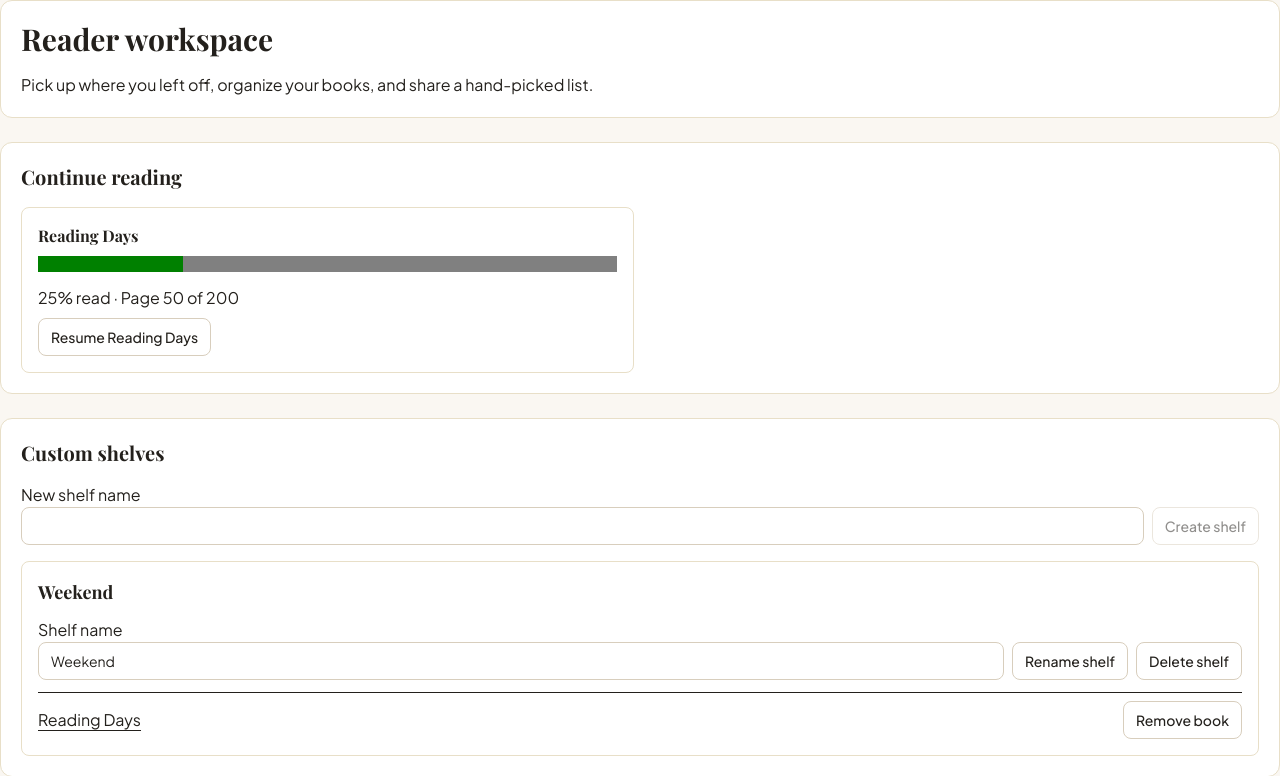
it: reader workspace › creates, renames and deletes shelves and removes a book from a shelf
This screenshot has width=1280, height=776.
In the field labelled "New shelf name": point(582, 526) [21,507,1144,545], type "To discuss"
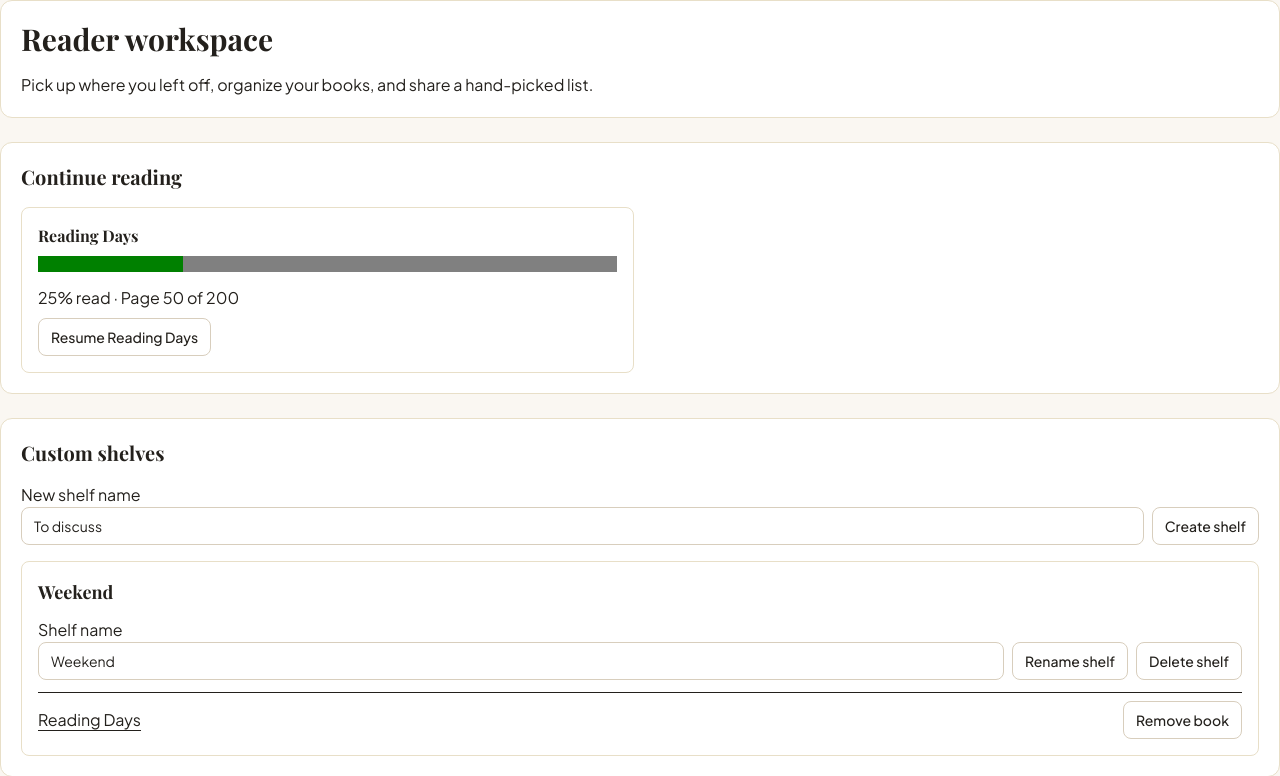
Click the button "Create shelf": point(1205, 526) [1152,507,1259,545]
(page scrolled)
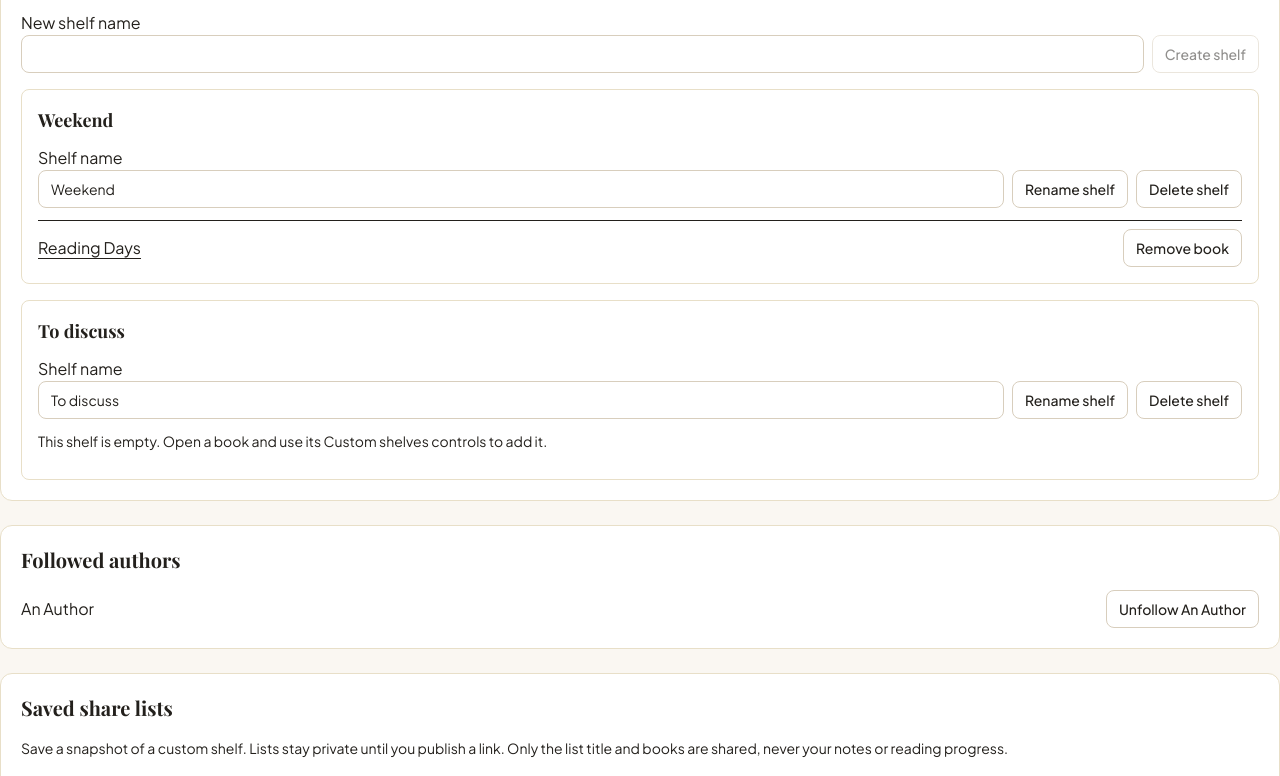
Expected: the heading "To discuss" is shown, [38,319,125,343]
Replace the text in the field named "Rename To discuss" with "Book club": point(521, 400) [38,381,1004,419]
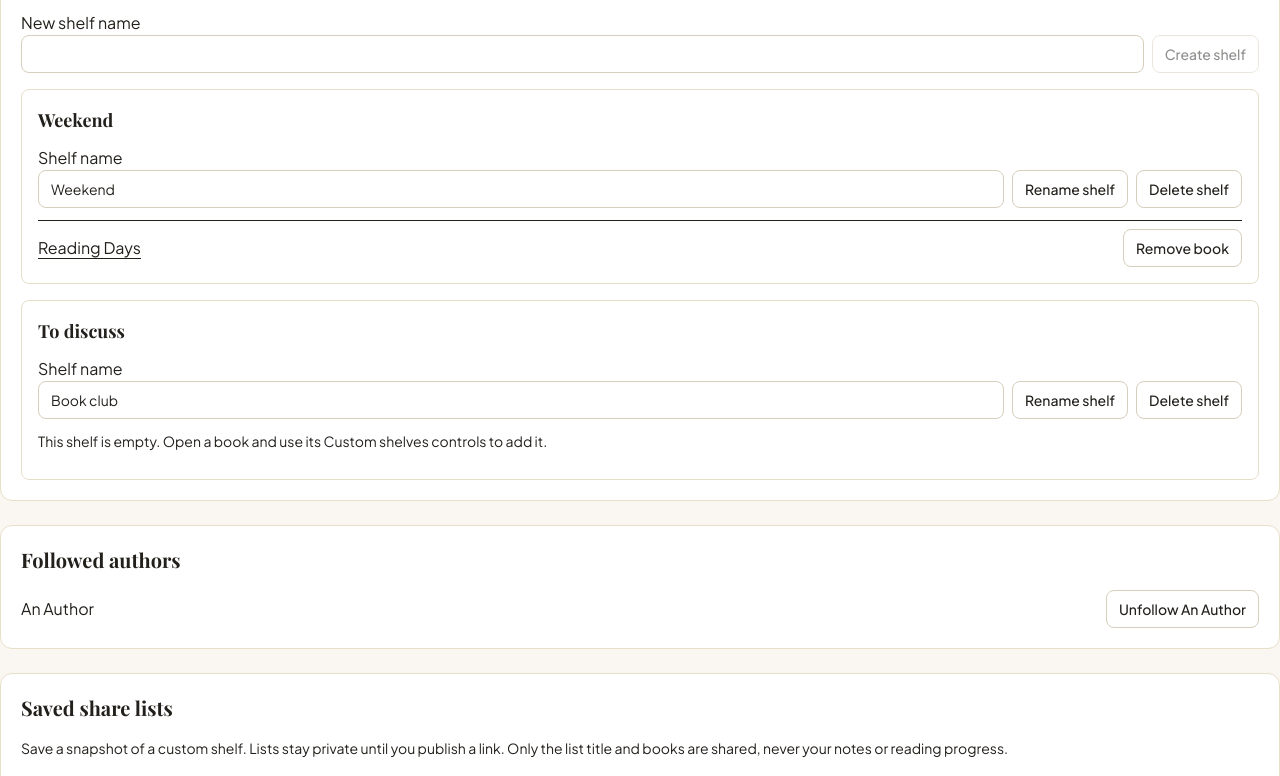
Click the 2nd button "Rename shelf": point(1070, 400) [1012,381,1128,419]
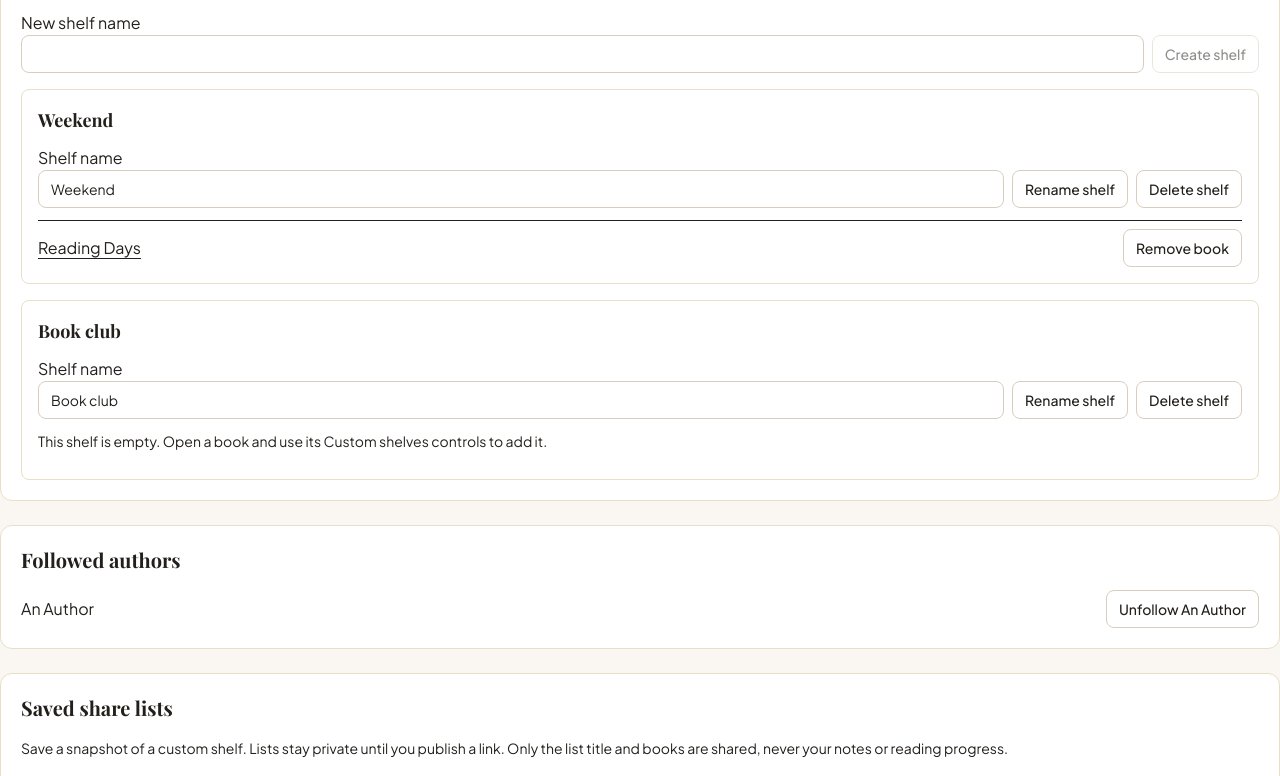
Click the 2nd button "Delete shelf": point(1189, 400) [1136,381,1242,419]
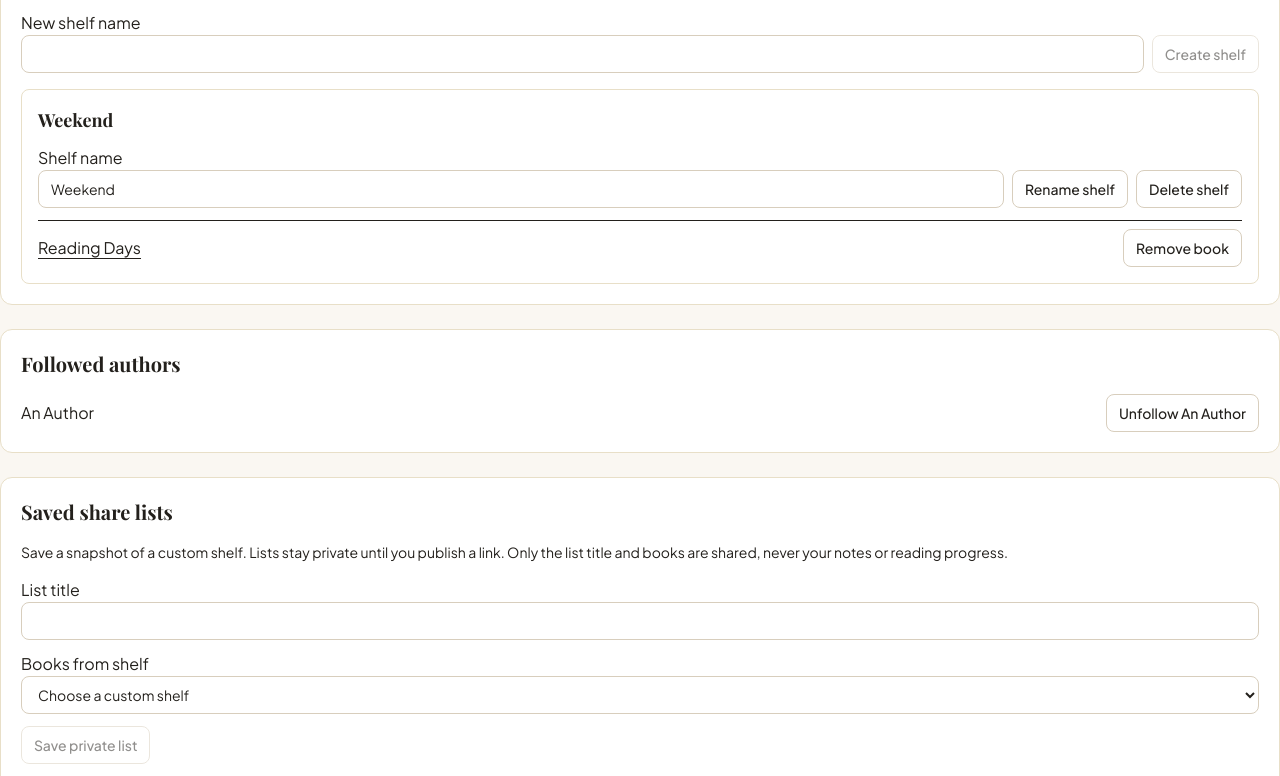
Expected: the heading "Book club" is gone
Click the button with aria-label "Remove Reading Days from Weekend": point(1183, 248) [1123,229,1242,267]
(page scrolled)
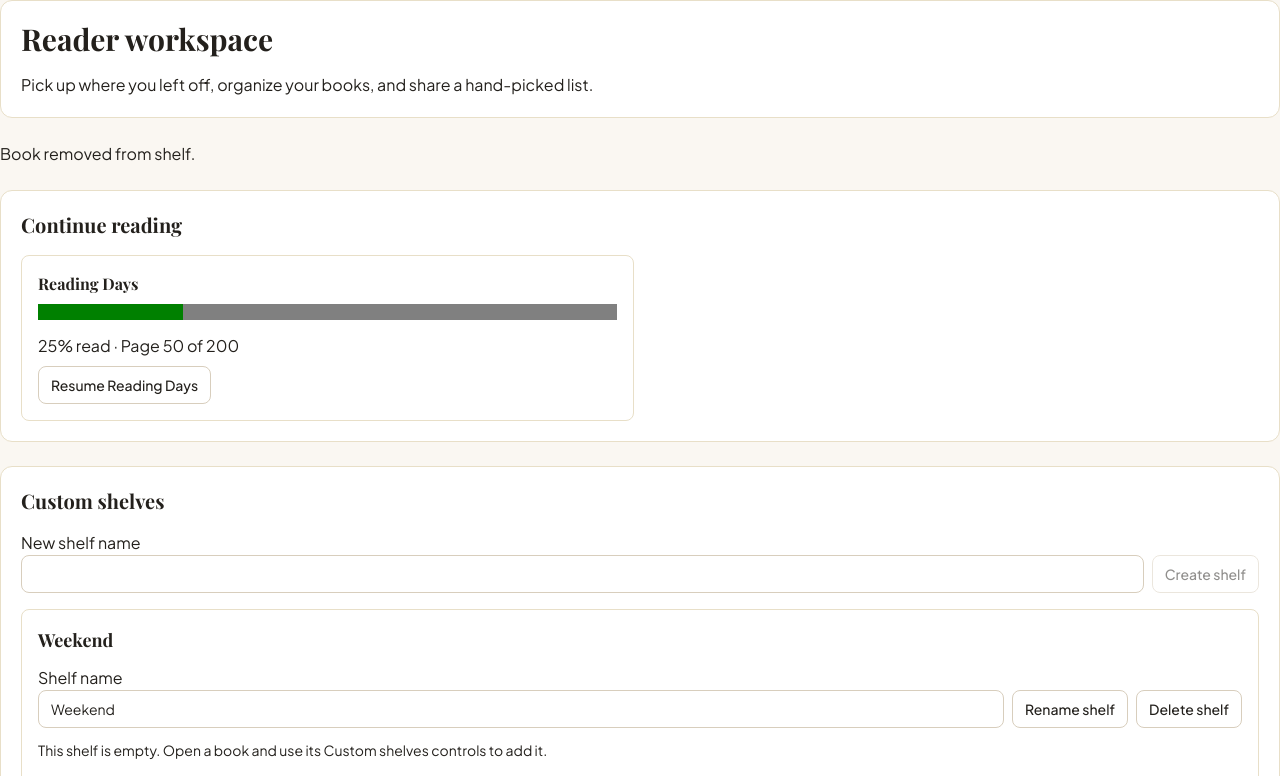
Expected: the text "Book removed from shelf." is shown, [0,143,196,164]
